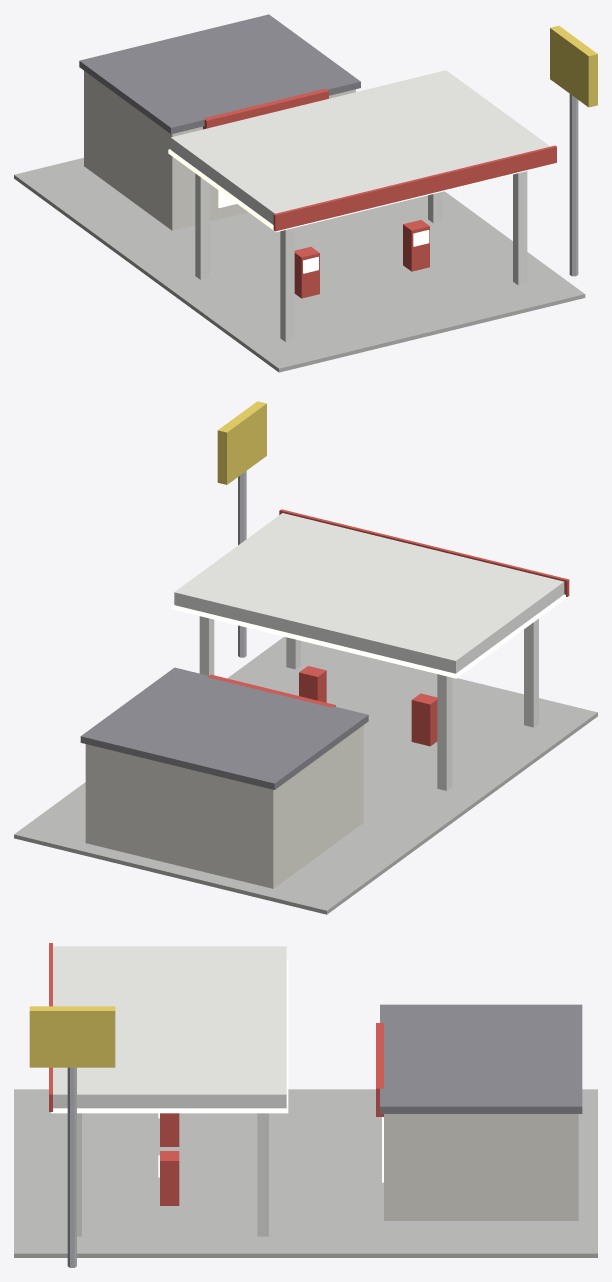
Rendered from gas_station.glb.
The picture shows the model from 3 angles, top to bottom: view 1: azimuth 30°, elevation 25°; view 2: azimuth 150°, elevation 25°; view 3: azimuth 270°, elevation 25°; orthographic projection. The views are drawn at different scales.
Visible parts, largest first — view 1: gas_station; view 2: gas_station; view 3: gas_station.
Boxes of the visible parts, left/top/right/bottom form: gas_station: left=14, top=14, right=597, bottom=372; gas_station: left=14, top=401, right=597, bottom=914; gas_station: left=14, top=943, right=597, bottom=1267.
Size of the model in its own units: 10.65 by 7.3 by 15.
